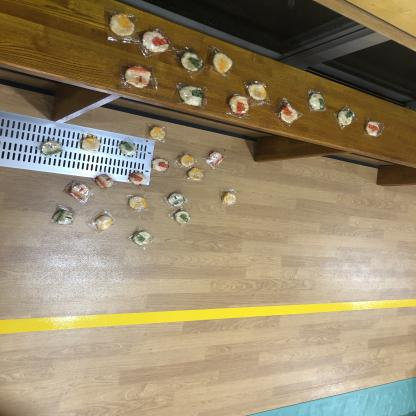green_setoshio: (176, 46, 206, 74), (172, 84, 206, 108), (50, 204, 80, 229), (333, 104, 358, 128), (129, 228, 156, 250), (36, 138, 65, 158), (163, 190, 190, 209), (307, 89, 329, 112), (118, 135, 139, 158), (168, 208, 194, 226)
red_setoshio: (138, 26, 172, 59), (120, 63, 158, 90), (276, 98, 304, 127), (66, 182, 95, 204), (225, 93, 250, 118), (202, 148, 229, 168), (149, 154, 172, 175), (364, 119, 384, 139), (94, 172, 116, 190), (127, 170, 149, 186)
yellow_setoshio: (104, 10, 138, 45), (211, 48, 237, 78), (246, 79, 272, 105), (124, 191, 152, 212), (78, 133, 103, 153), (93, 214, 118, 234), (147, 124, 169, 144), (219, 187, 240, 207), (184, 166, 206, 182), (179, 153, 197, 168)
